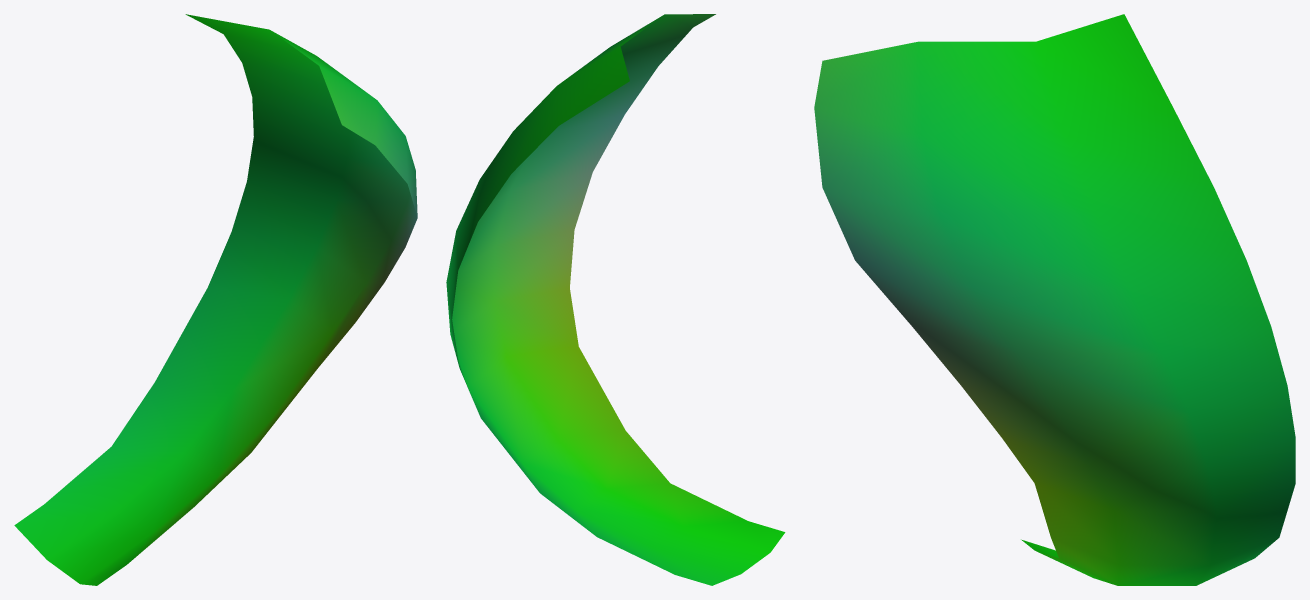
Rendered from uni_wormhole_streak.fbx.
3 renders of one model, left to right at view 1: azimuth 30°, elevation 25°; view 2: azimuth 150°, elevation 25°; view 3: azimuth 270°, elevation 25°, orthographic. The views are drawn at different scales.
Parts seen in each view (by area): view 1: uni_portal_streak; view 2: uni_portal_streak; view 3: uni_portal_streak.
Part boxes in pixels (x1,y1,x2,y2): uni_portal_streak: (14,14,417,585); uni_portal_streak: (446,14,785,585); uni_portal_streak: (814,14,1295,585).
Size of the model in its own units: 11800 by 10400 by 16600.
